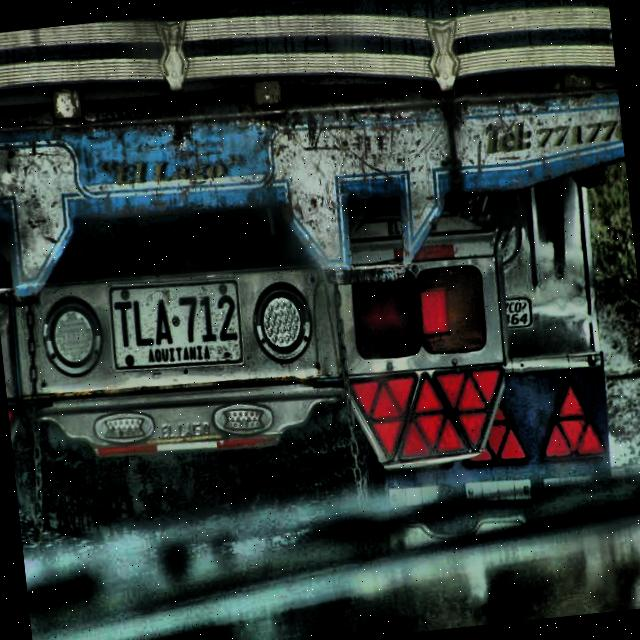1: (196, 292, 218, 342)
2: (212, 290, 238, 342)
7: (177, 294, 200, 344)
A: (151, 296, 175, 348)
L: (131, 297, 155, 348)
T: (112, 299, 136, 349)
